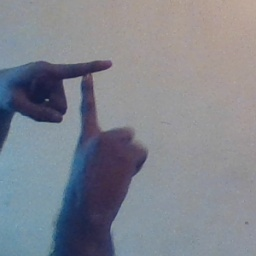T: (35, 46, 139, 155)
